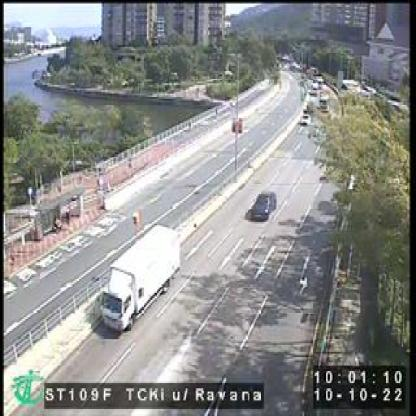Car: (252, 191, 276, 219), (299, 114, 308, 125)
Truck: (100, 223, 180, 334)
